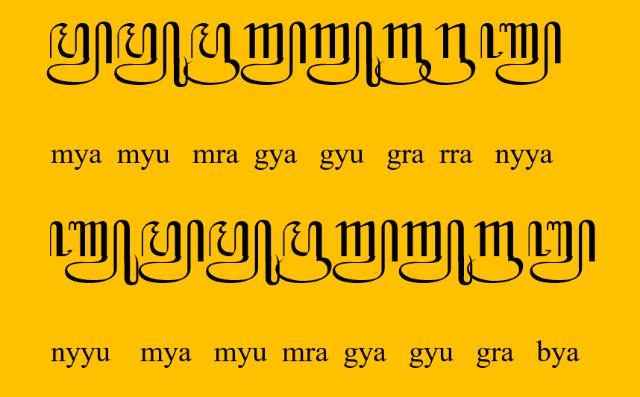by: (528, 218, 596, 284)
gr: (468, 220, 524, 284), (376, 23, 432, 86)
gy: (332, 220, 400, 284), (240, 21, 306, 85)
gyu: (307, 21, 381, 88), (400, 220, 472, 286)
mr: (184, 22, 240, 86), (276, 220, 332, 284)
my: (46, 20, 112, 85), (139, 220, 205, 284)
myu: (114, 21, 188, 88), (206, 220, 280, 286)
nyy: (479, 20, 561, 85)
nyyu: (49, 220, 140, 286)
rr: (420, 23, 476, 85)
